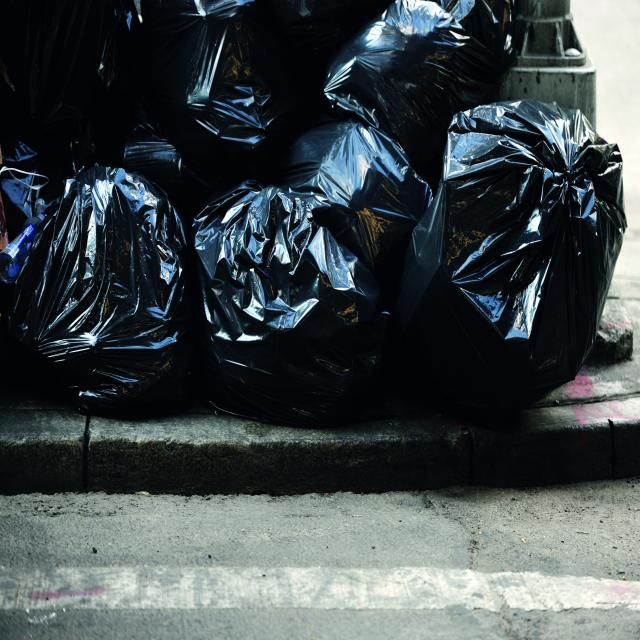plastic_bag: (404, 112, 629, 395), (192, 200, 383, 412), (32, 178, 188, 407), (338, 13, 497, 128), (181, 21, 302, 143)
